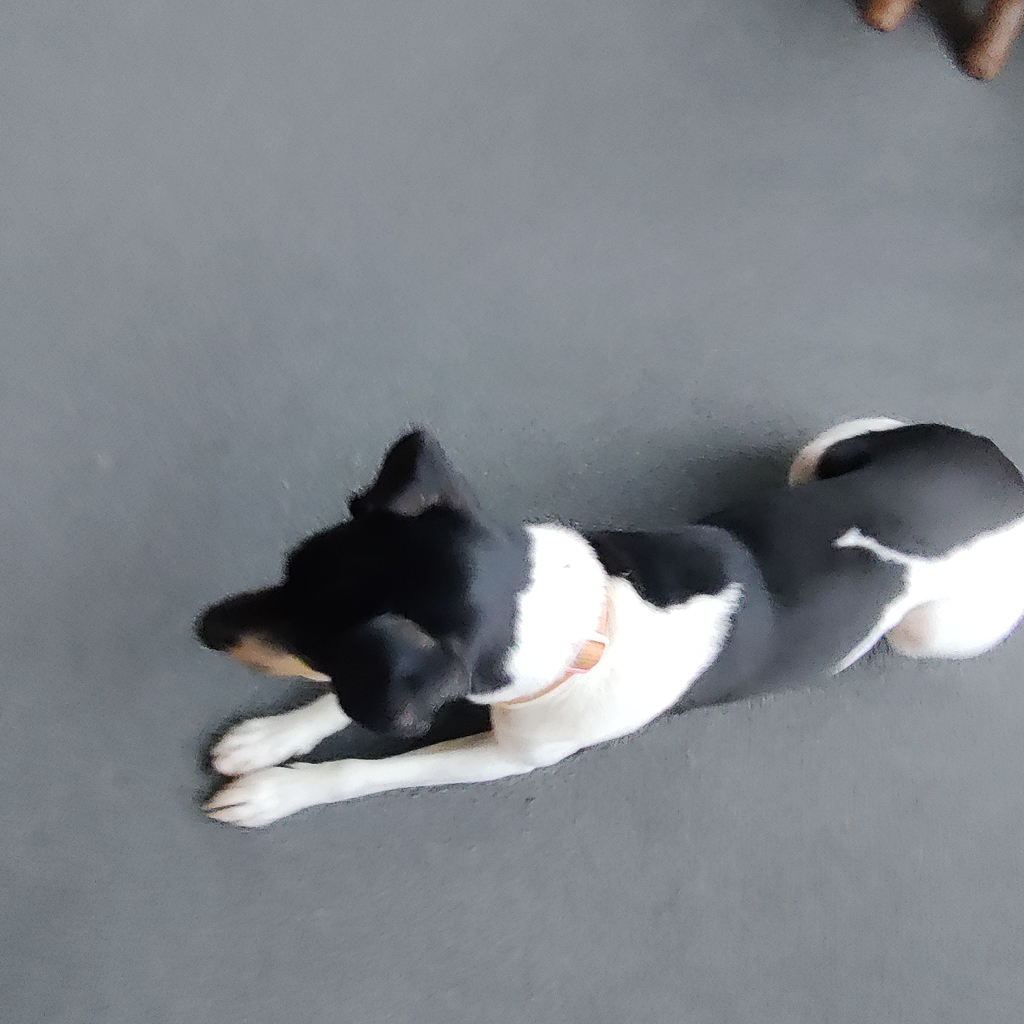Cattle: (840, 0, 1024, 109)
Dog: (177, 351, 1024, 861)
